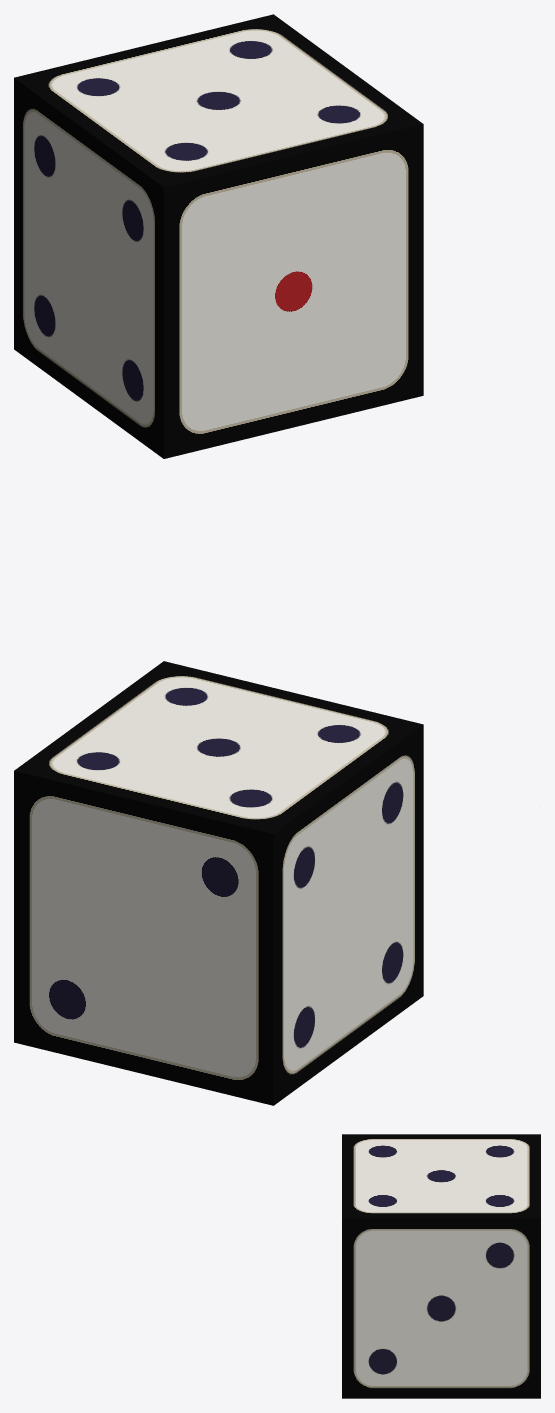
File: dice_atari_3d.glb
3 views of the same model, one above another, from view 1: azimuth 30°, elevation 25°; view 2: azimuth 150°, elevation 25°; view 3: azimuth 270°, elevation 25° (orthographic). The views are drawn at different scales.
Parts seen in each view (by area): view 1: dice_die; view 2: dice_die; view 3: dice_die.
Boxes of the visible parts, x1,y1,x2,y2 form: dice_die: [14, 14, 423, 458]; dice_die: [14, 661, 423, 1105]; dice_die: [342, 1134, 540, 1398].
Bounding box in the file's own units: 0.34 × 0.3705 × 0.9.
Materials: 7 (7 with a texture image).
